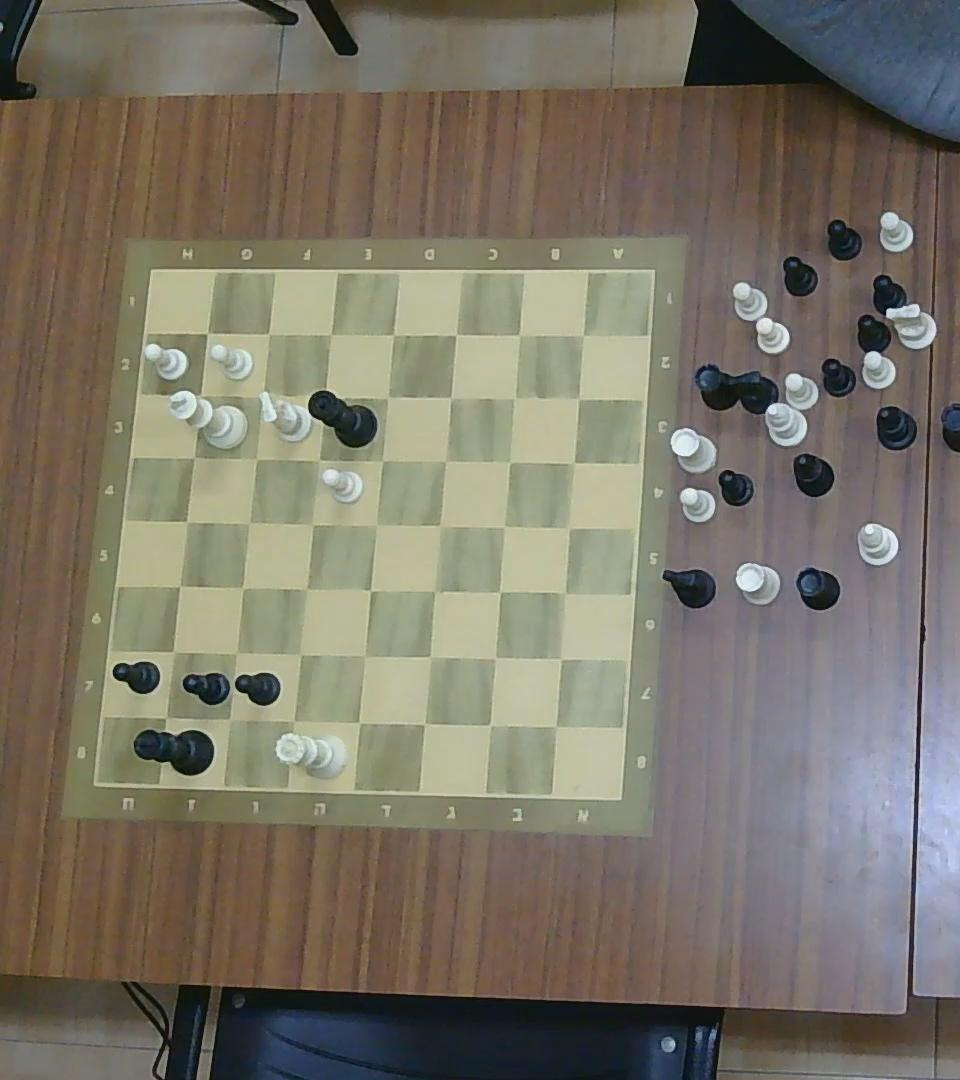xcorner: (477, 712, 503, 738), (542, 714, 569, 739), (246, 382, 272, 407), (412, 711, 437, 736), (347, 709, 371, 734), (418, 645, 442, 670), (281, 708, 305, 732), (482, 646, 506, 669), (353, 644, 376, 668), (288, 642, 311, 666), (154, 705, 178, 728), (549, 647, 571, 669), (439, 387, 461, 408), (423, 579, 444, 601), (218, 708, 240, 729), (188, 384, 210, 405), (319, 324, 341, 344), (225, 642, 245, 663), (183, 447, 203, 467), (429, 516, 449, 536), (372, 450, 392, 470), (296, 578, 315, 599), (309, 448, 328, 469), (170, 576, 189, 597), (435, 450, 454, 470), (378, 388, 397, 408), (367, 514, 386, 534), (489, 582, 508, 602), (361, 580, 380, 600), (555, 582, 574, 602), (446, 325, 465, 345), (559, 518, 579, 537), (165, 641, 184, 661), (177, 511, 196, 531), (384, 325, 403, 345), (315, 386, 334, 406), (240, 513, 259, 532), (500, 451, 519, 470), (234, 579, 253, 598), (303, 514, 321, 534), (495, 516, 513, 536), (260, 324, 278, 344), (248, 449, 266, 468), (198, 323, 217, 341), (564, 453, 583, 471), (505, 389, 523, 406), (511, 326, 528, 344), (573, 327, 591, 344), (572, 390, 588, 405)
